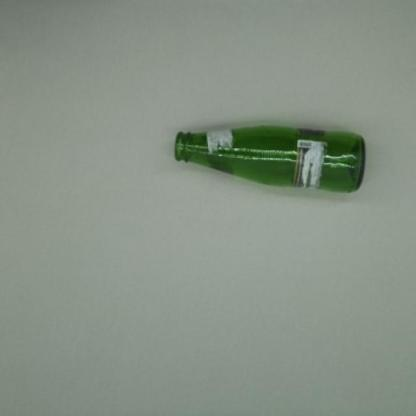Can: (174, 125, 366, 193)
